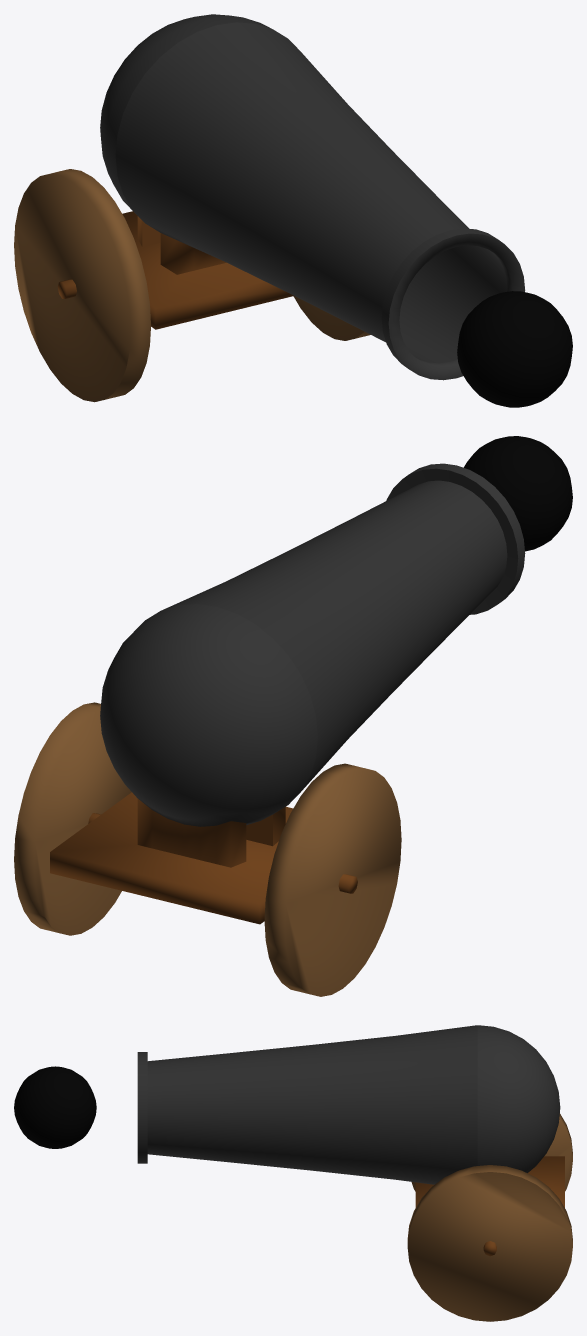
File: Canons(T).fbx
3 renders of one model, top to bottom at view 1: azimuth 30°, elevation 25°; view 2: azimuth 150°, elevation 25°; view 3: azimuth 270°, elevation 25°, orthographic. The views are drawn at different scales.
Parts seen in each view (by area): view 1: Cannon, Ball; view 2: Cannon, Ball; view 3: Cannon, Ball.
Part boxes in pixels (x1,y1,x2,y2): Cannon: [14, 14, 525, 402]; Ball: [457, 291, 572, 407]; Cannon: [14, 463, 525, 996]; Ball: [463, 436, 572, 551]; Cannon: [137, 1025, 572, 1321]; Ball: [14, 1066, 96, 1148].
Bounding box in the file's own units: 287 × 323 × 676.
